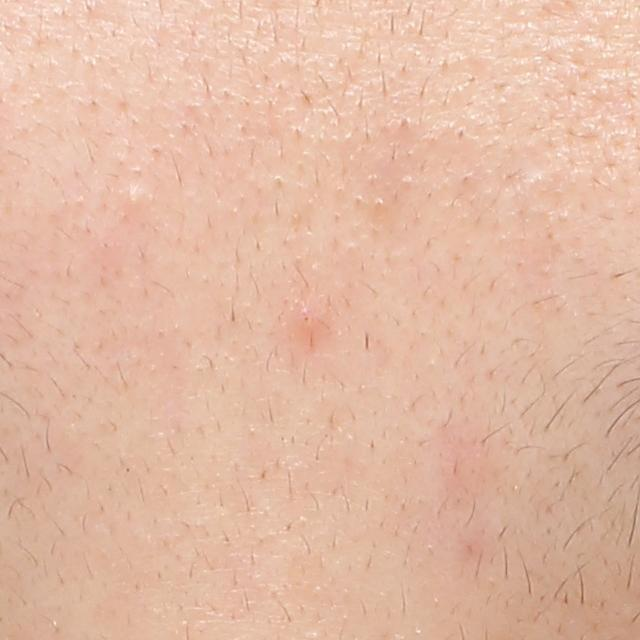comedo: (123, 183, 149, 210)
papule: (289, 300, 329, 339)
